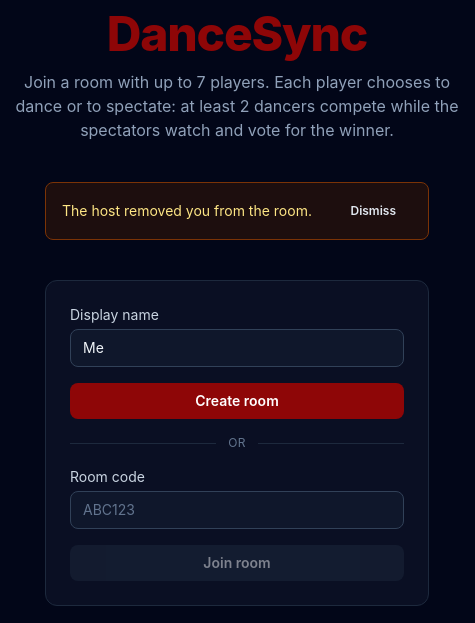
it: HomePage › shows the "removed from the room" notice until it is dismissed
The image size is (475, 623).
Expected: the message shows "The host removed you from the room.", top-left (62, 202), bottom-right (312, 219)
Click the button "Dismiss".
click(373, 211)  # box top-left (334, 195), bottom-right (412, 227)
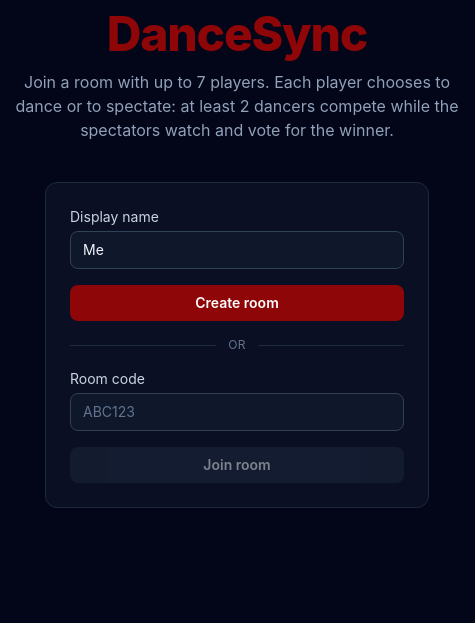
Now the text "The host removed you from the room." is gone
